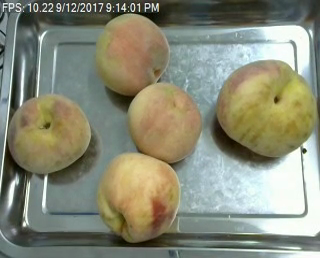Peach: (214, 60, 318, 157), (96, 152, 181, 242), (7, 92, 92, 173), (95, 13, 170, 95), (127, 81, 202, 162)
